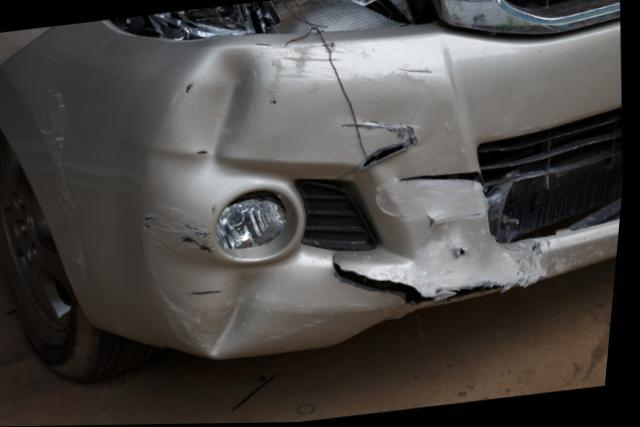crack: (333, 255, 520, 308), (363, 143, 411, 168)
dent: (151, 229, 293, 354), (151, 45, 262, 182)
scratch: (380, 179, 552, 285), (33, 77, 95, 299), (266, 41, 433, 122), (243, 299, 386, 347), (145, 207, 219, 256)
